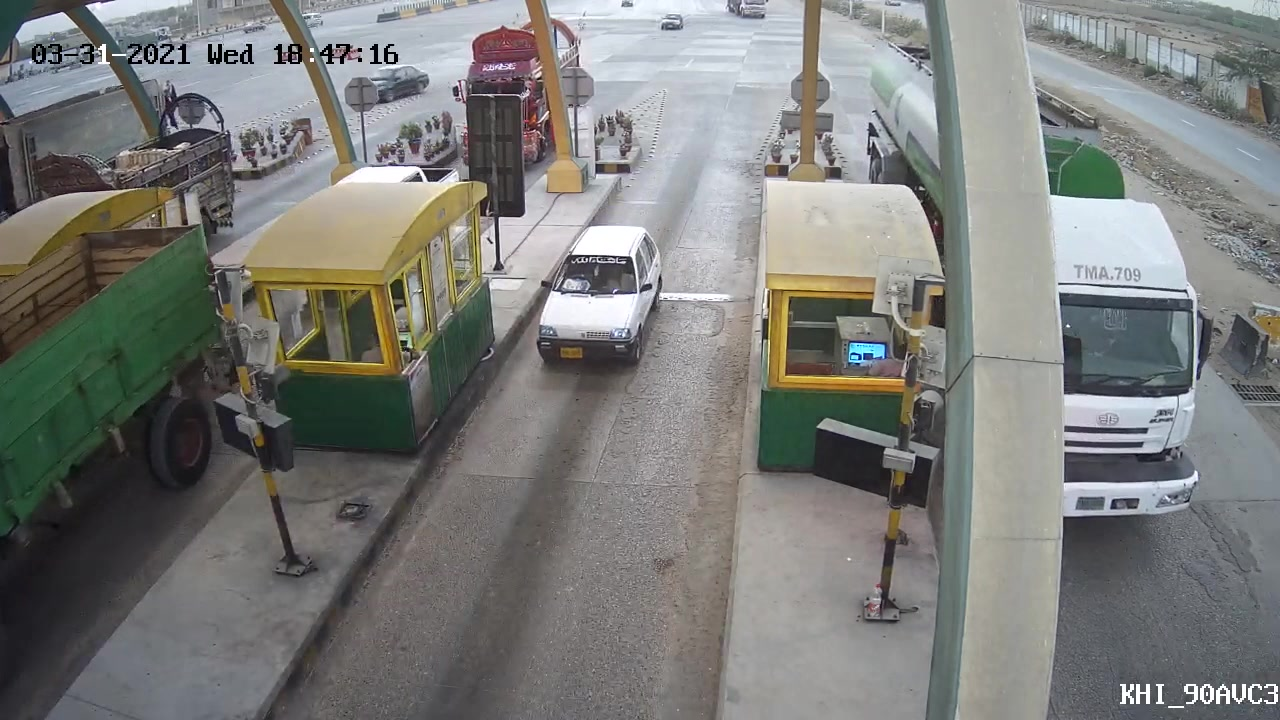F1: (522, 225, 669, 379)
